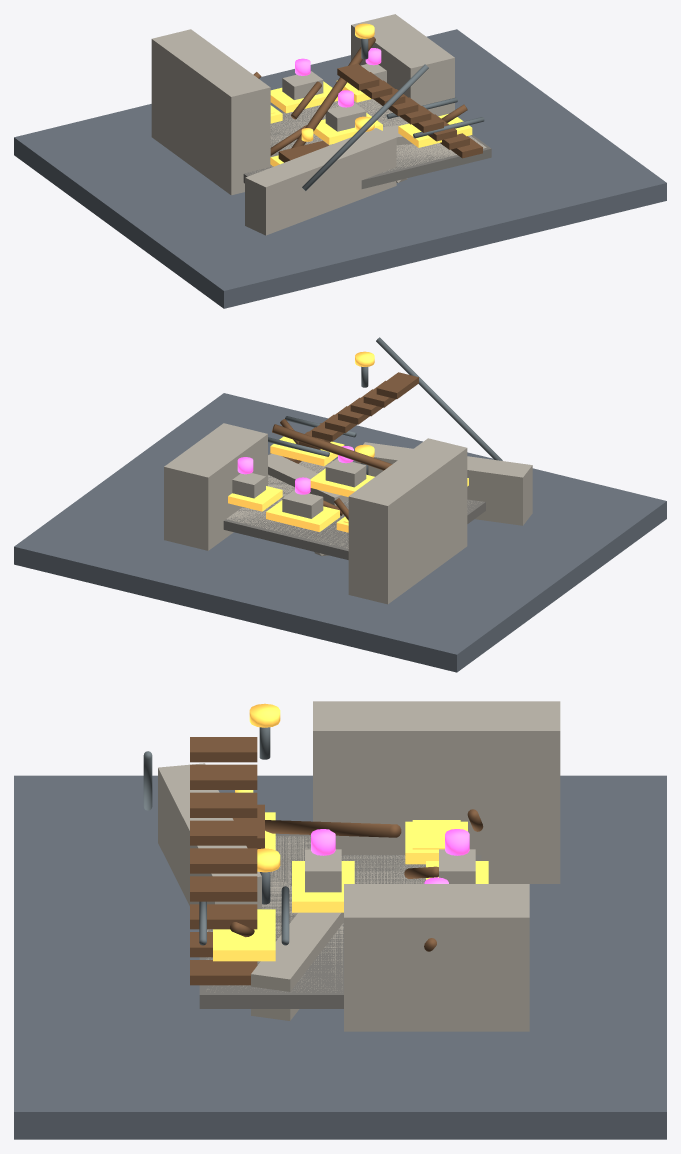
The picture shows the model from 3 angles, top to bottom: view 1: azimuth 30°, elevation 25°; view 2: azimuth 150°, elevation 25°; view 3: azimuth 270°, elevation 25°; orthographic projection. The views are drawn at different scales.
Parts seen in each view (by area): view 1: ProfileGround.015, RuinWall_visual_ruin_0, RuinWall_visual_ruin_2, RuinWall_visual_ruin_1, NaturalFloor_visual_ruin, RuinFoundation_visual_ruin, StairRail_0.012, RuinClimbBeam_visual_ruin, ShrineAltar_5.004, ShrineAltar_4.002, Room_secret_5.002, Stair_0_8.012 (+3 smaller); view 2: ProfileGround.015, RuinWall_visual_ruin_0, RuinWall_visual_ruin_1, RuinWall_visual_ruin_2, NaturalFloor_visual_ruin, RuinFoundation_visual_ruin, RuinWall_visual_ruin_3, RuinClimbBeam_visual_ruin, Room_secret_5.002, StairRail_0.012, ShrineAltar_5.004, ShrineAltar_4.002 (+5 smaller); view 3: ProfileGround.015, RuinWall_visual_ruin_0, RuinWall_visual_ruin_1, NaturalFloor_visual_ruin, RuinWall_visual_ruin_2, RuinWall_visual_ruin_3, RuinFoundation_visual_ruin, Room_collapsed_hall_1, Room_crypt_4.001, RuinClimbBeam_visual_ruin, Stair_0_3.012, Stair_0_4.012 (+11 smaller).
Part boxes in pixels (x1,y1,x2,y2): ProfileGround.015: (14, 29, 666, 308); RuinWall_visual_ruin_0: (151, 29, 270, 195); RuinWall_visual_ruin_2: (245, 128, 396, 235); RuinWall_visual_ruin_1: (351, 14, 454, 116); NaturalFloor_visual_ruin: (243, 99, 491, 188); RuinFoundation_visual_ruin: (250, 99, 486, 174); StairRail_0.012: (302, 64, 428, 190); RuinClimbBeam_visual_ruin: (291, 36, 375, 148); ShrineAltar_5.004: (282, 71, 323, 99); ShrineAltar_4.002: (325, 102, 366, 131); Room_secret_5.002: (270, 81, 337, 113); Stair_0_8.012: (337, 63, 379, 90); ProfileGround.015: (14, 393, 666, 672); RuinWall_visual_ruin_0: (348, 438, 467, 604); RuinWall_visual_ruin_1: (164, 423, 267, 550); RuinWall_visual_ruin_2: (355, 442, 532, 525); NaturalFloor_visual_ruin: (223, 453, 485, 559); RuinFoundation_visual_ruin: (227, 461, 481, 548); RuinWall_visual_ruin_3: (268, 453, 348, 505); RuinClimbBeam_visual_ruin: (272, 424, 392, 470); Room_secret_5.002: (266, 500, 339, 531); StairRail_0.012: (376, 337, 502, 460); ShrineAltar_5.004: (282, 490, 323, 518); ShrineAltar_4.002: (325, 458, 366, 487); ProfileGround.015: (14, 775, 666, 1139); RuinWall_visual_ruin_0: (313, 701, 560, 883); RuinWall_visual_ruin_1: (344, 884, 529, 1031); NaturalFloor_visual_ruin: (199, 834, 481, 1008); RuinWall_visual_ruin_2: (158, 763, 261, 909); RuinWall_visual_ruin_3: (251, 912, 343, 1020); RuinFoundation_visual_ruin: (206, 836, 425, 992); Room_collapsed_hall_1: (213, 909, 275, 961); Room_crypt_4.001: (292, 861, 354, 912); RuinClimbBeam_visual_ruin: (265, 820, 401, 837); Stair_0_3.012: (190, 876, 257, 901); Stair_0_4.012: (190, 848, 257, 873).
Bounding box in the file's own units: 5.18 × 1.88 × 4.26.
